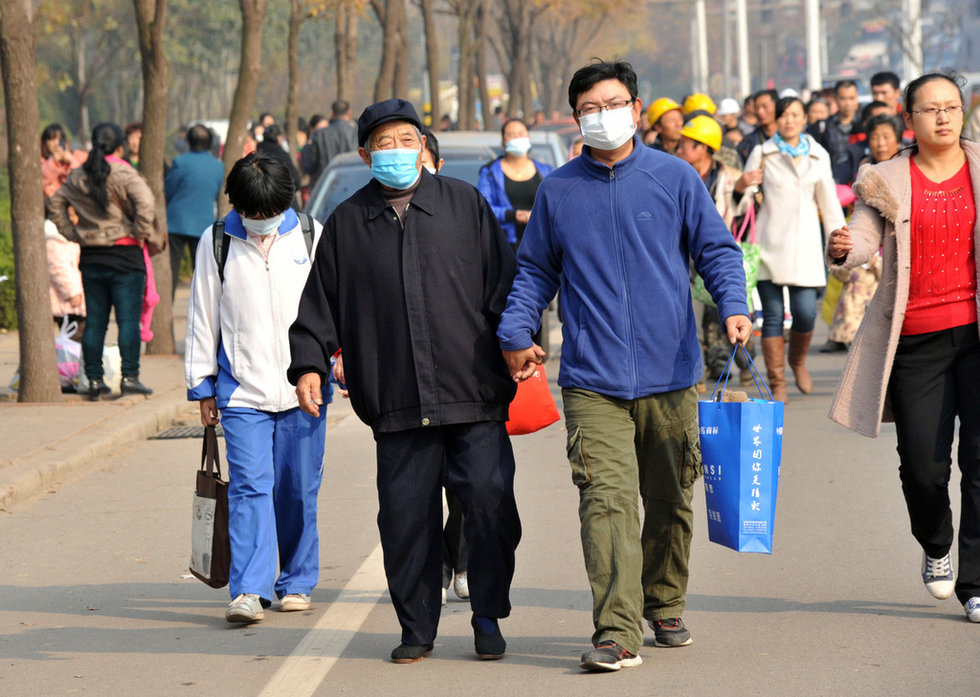mask: (563, 104, 686, 181), (361, 132, 457, 199)
